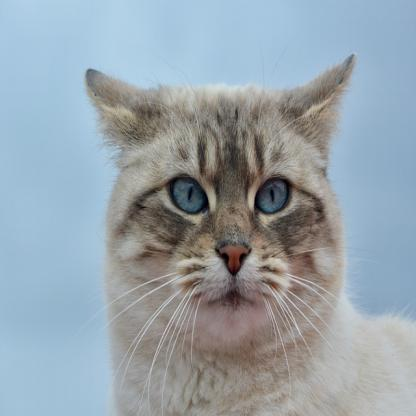cat: (85, 53, 415, 415)
